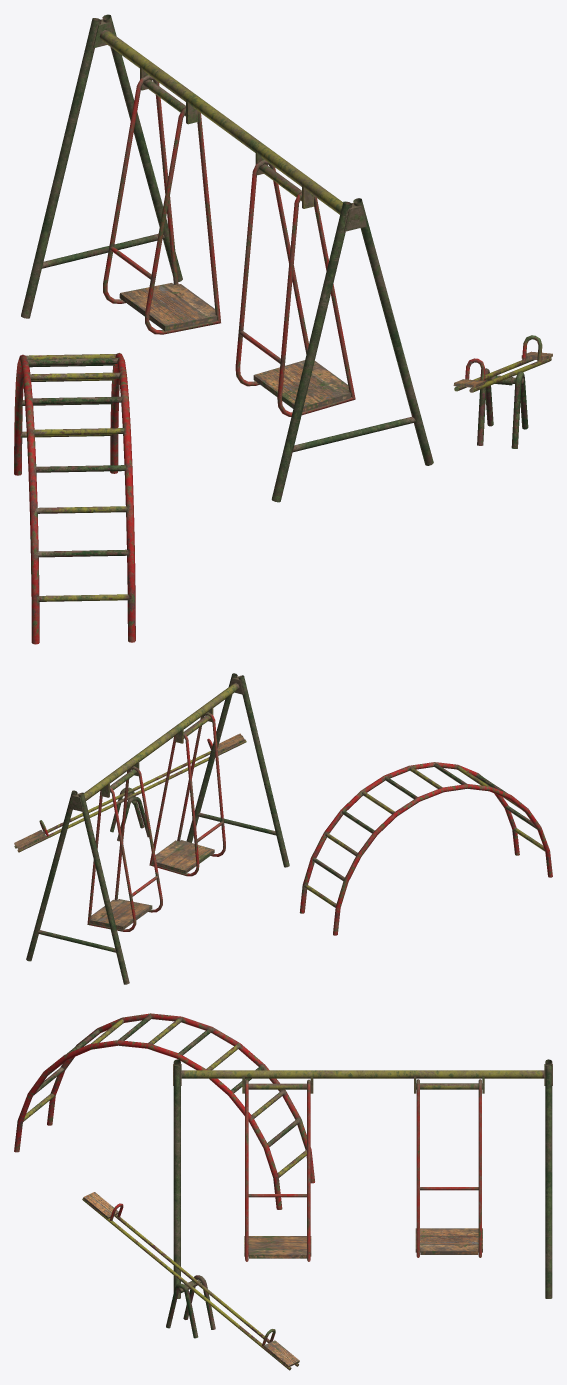
The model's file is kacheli1.glb.
3 views of the same model, one above another, from view 1: azimuth 30°, elevation 25°; view 2: azimuth 150°, elevation 25°; view 3: azimuth 270°, elevation 25° (orthographic). The views are drawn at different scales.
Visible parts, largest first — view 1: Cylinder006, Circle002, Cylinder007, Cylinder008, Cylinder003__0, Line001; view 2: Cylinder006, Circle002, Cylinder008, Cylinder007, Cylinder003__0, Line001; view 3: Cylinder006, Circle002, Cylinder007, Cylinder008, Cylinder003__0, Line001.
Part boxes in pixels (left/top/right/bottom): Cylinder006: left=21, top=14, right=433, bottom=502; Circle002: left=14, top=353, right=135, bottom=644; Cylinder007: left=103, top=74, right=220, bottom=334; Cylinder008: left=235, top=159, right=355, bottom=416; Cylinder003__0: left=453, top=335, right=552, bottom=392; Line001: left=477, top=368, right=528, bottom=448; Cylinder006: left=26, top=673, right=289, bottom=984; Circle002: left=299, top=762, right=552, bottom=935; Cylinder008: left=149, top=712, right=225, bottom=876; Cylinder007: left=87, top=766, right=162, bottom=931; Cylinder003__0: left=14, top=733, right=246, bottom=852; Line001: left=110, top=787, right=148, bottom=841; Cylinder006: left=173, top=1059, right=552, bottom=1298; Circle002: left=14, top=1013, right=314, bottom=1209; Cylinder007: left=415, top=1079, right=482, bottom=1257; Cylinder008: left=244, top=1079, right=311, bottom=1261; Cylinder003__0: left=82, top=1192, right=299, bottom=1370; Line001: left=166, top=1275, right=215, bottom=1338.
Size of the model in its own units: 4.93 by 1.95 by 4.55.
1 material, 1 textured.
